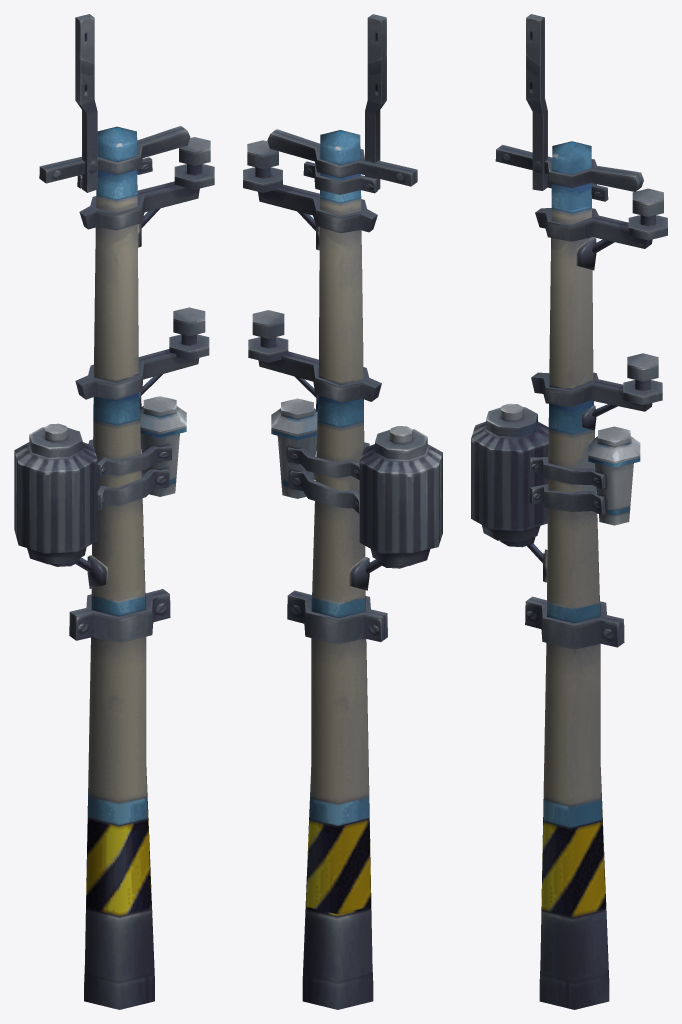
File: hbxz_wj021_01.FBX
The picture shows the model from 3 angles, left to right: view 1: azimuth 30°, elevation 25°; view 2: azimuth 150°, elevation 25°; view 3: azimuth 330°, elevation 25°; orthographic projection.
Visible parts, largest first — view 1: hbxz_wj021_01; view 2: hbxz_wj021_01; view 3: hbxz_wj021_01.
Boxes of the visible parts, x1,y1,x2,y2 form: hbxz_wj021_01: (14,14,214,1009); hbxz_wj021_01: (243,14,442,1009); hbxz_wj021_01: (471,14,667,1009).
Size of the model in its own units: 122 by 583 by 46.34.
1 material, 1 textured.
